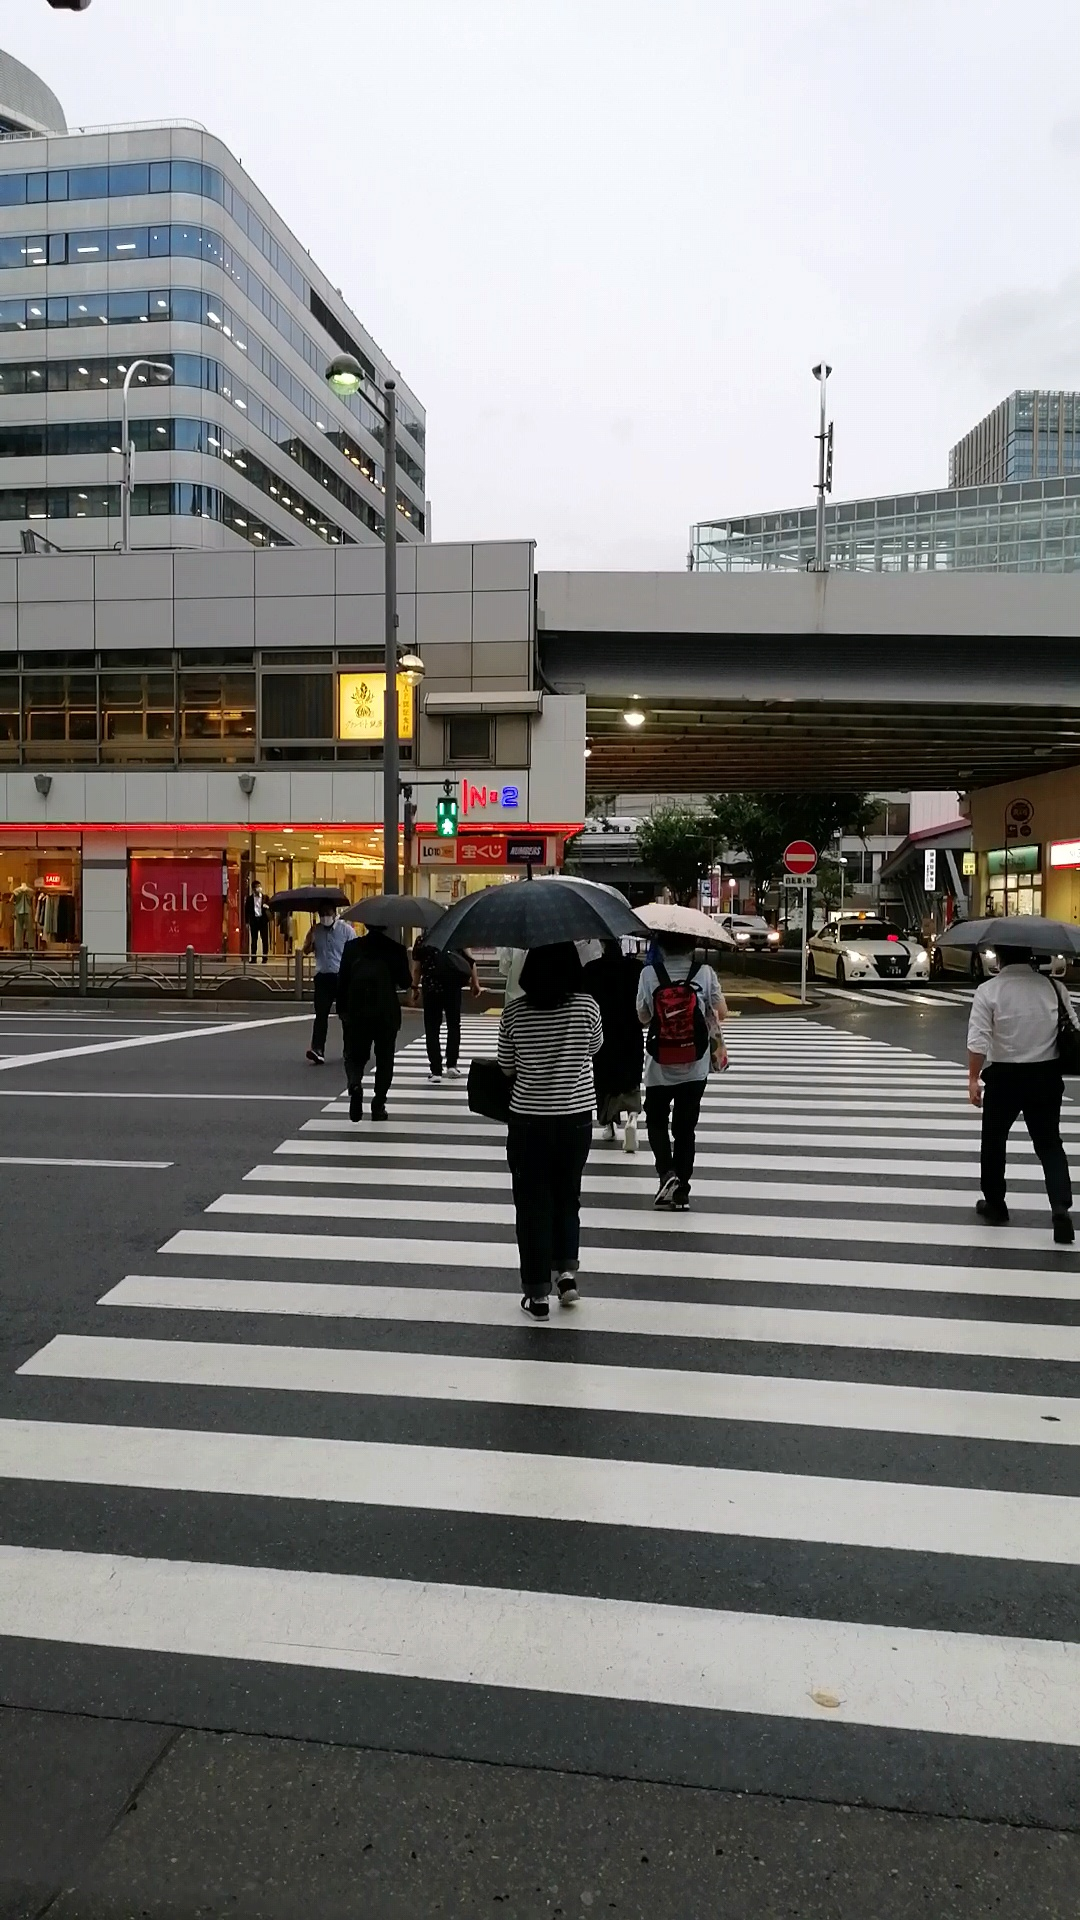green: (435, 796, 459, 840)
